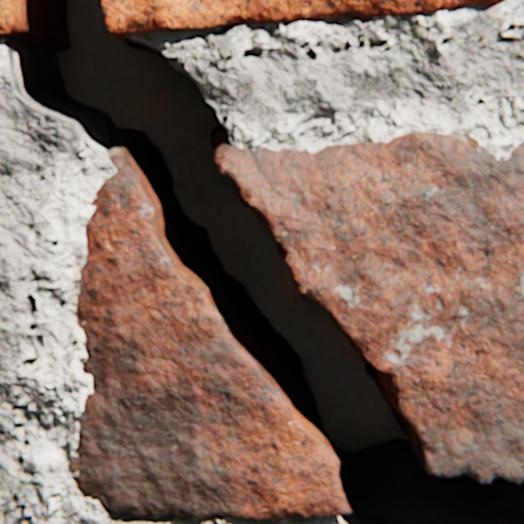broken_brick: (214, 133, 523, 481), (69, 168, 350, 519), (102, 0, 506, 33), (0, 0, 16, 37)
crack: (1, 0, 523, 523)
